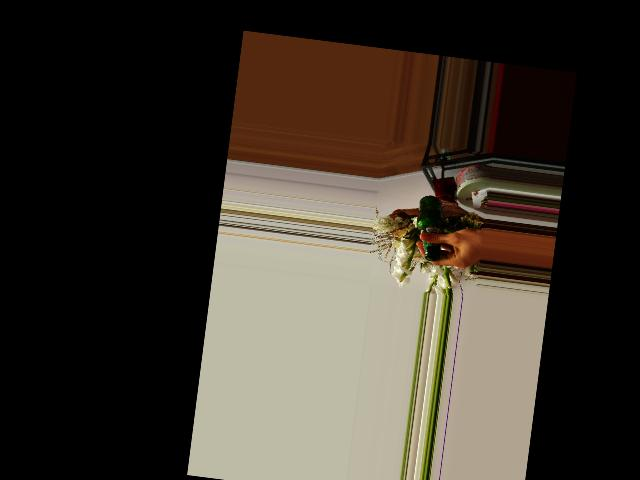beer: (412, 193, 449, 261)
